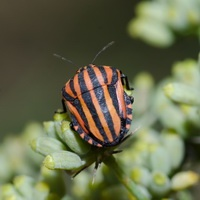insect: (62, 64, 132, 146)
